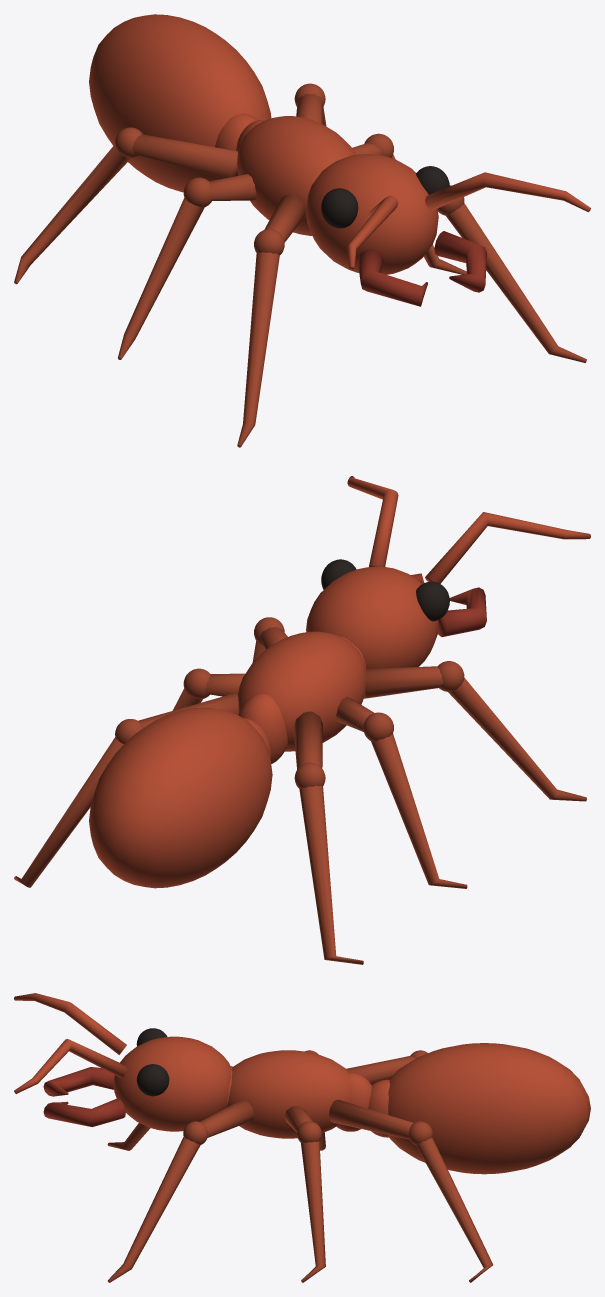
File: worker-study.glb
3 renders of one model, top to bottom at view 1: azimuth 30°, elevation 25°; view 2: azimuth 150°, elevation 25°; view 3: azimuth 270°, elevation 25°, orthographic. The views are drawn at different scales.
Parts seen in each view (by area): view 1: WORKER gaster, WORKER head, WORKER thorax, WORKER leg -1 2, WORKER leg -1 0, WORKER leg -1 1, WORKER leg 1 0, WORKER elbowed antenna 1, WORKER mandible -1, WORKER mandible 1, WORKER eye, WORKER elbowed antenna -1 (+7 smaller); view 2: WORKER gaster, WORKER head, WORKER thorax, WORKER leg -1 2, WORKER leg -1 0, WORKER leg -1 1, WORKER leg 1 2, WORKER elbowed antenna -1, WORKER elbowed antenna 1, WORKER petiole front, WORKER mandible -1, WORKER eye (+5 smaller); view 3: WORKER gaster, WORKER head, WORKER thorax, WORKER leg 1 2, WORKER leg 1 0, WORKER leg 1 1, WORKER mandible 1, WORKER elbowed antenna 1, WORKER elbowed antenna -1, WORKER mandible -1, WORKER leg -1 2, WORKER eye.001 (+6 smaller).
Boxes of the visible parts, x1=… form: WORKER gaster: x1=89, y1=14, x2=271, y2=192; WORKER head: x1=306, y1=154, x2=438, y2=274; WORKER thorax: x1=237, y1=116, x2=356, y2=235; WORKER leg -1 2: x1=14, y1=134, x2=238, y2=284; WORKER leg -1 0: x1=237, y1=194, x2=305, y2=447; WORKER leg -1 1: x1=118, y1=174, x2=256, y2=359; WORKER leg 1 0: x1=446, y1=203, x2=586, y2=362; WORKER elbowed antenna 1: x1=425, y1=172, x2=590, y2=212; WORKER mandible -1: x1=357, y1=249, x2=427, y2=306; WORKER mandible 1: x1=434, y1=231, x2=486, y2=292; WORKER eye: x1=321, y1=188, x2=358, y2=228; WORKER elbowed antenna -1: x1=347, y1=195, x2=398, y2=269; WORKER gaster: x1=89, y1=707, x2=272, y2=888; WORKER head: x1=306, y1=566, x2=438, y2=668; WORKER thorax: x1=238, y1=631, x2=366, y2=751; WORKER leg -1 2: x1=293, y1=711, x2=363, y2=964; WORKER leg -1 0: x1=364, y1=666, x2=586, y2=801; WORKER leg -1 1: x1=336, y1=697, x2=467, y2=888; WORKER leg 1 2: x1=14, y1=693, x2=238, y2=887; WORKER elbowed antenna -1: x1=425, y1=512, x2=590, y2=583; WORKER elbowed antenna 1: x1=347, y1=476, x2=398, y2=567; WORKER petiole front: x1=238, y1=693, x2=287, y2=763; WORKER mandible -1: x1=437, y1=587, x2=486, y2=636; WORKER eye: x1=416, y1=581, x2=449, y2=621; WORKER gaster: x1=388, y1=1043, x2=590, y2=1174; WORKER head: x1=113, y1=1036, x2=231, y2=1131; WORKER thorax: x1=227, y1=1050, x2=351, y2=1138; WORKER leg 1 2: x1=329, y1=1099, x2=493, y2=1282; WORKER leg 1 0: x1=107, y1=1100, x2=253, y2=1282; WORKER leg 1 1: x1=284, y1=1106, x2=325, y2=1282; WORKER mandible 1: x1=43, y1=1098, x2=125, y2=1127; WORKER elbowed antenna 1: x1=14, y1=1039, x2=126, y2=1093; WORKER elbowed antenna -1: x1=14, y1=993, x2=126, y2=1054; WORKER mandible -1: x1=43, y1=1067, x2=114, y2=1096; WORKER leg -1 2: x1=346, y1=1055, x2=414, y2=1084; WORKER eye.001: x1=136, y1=1064, x2=169, y2=1096.
Size of the model in its own units: 2.3 by 1.5 by 4.06.
